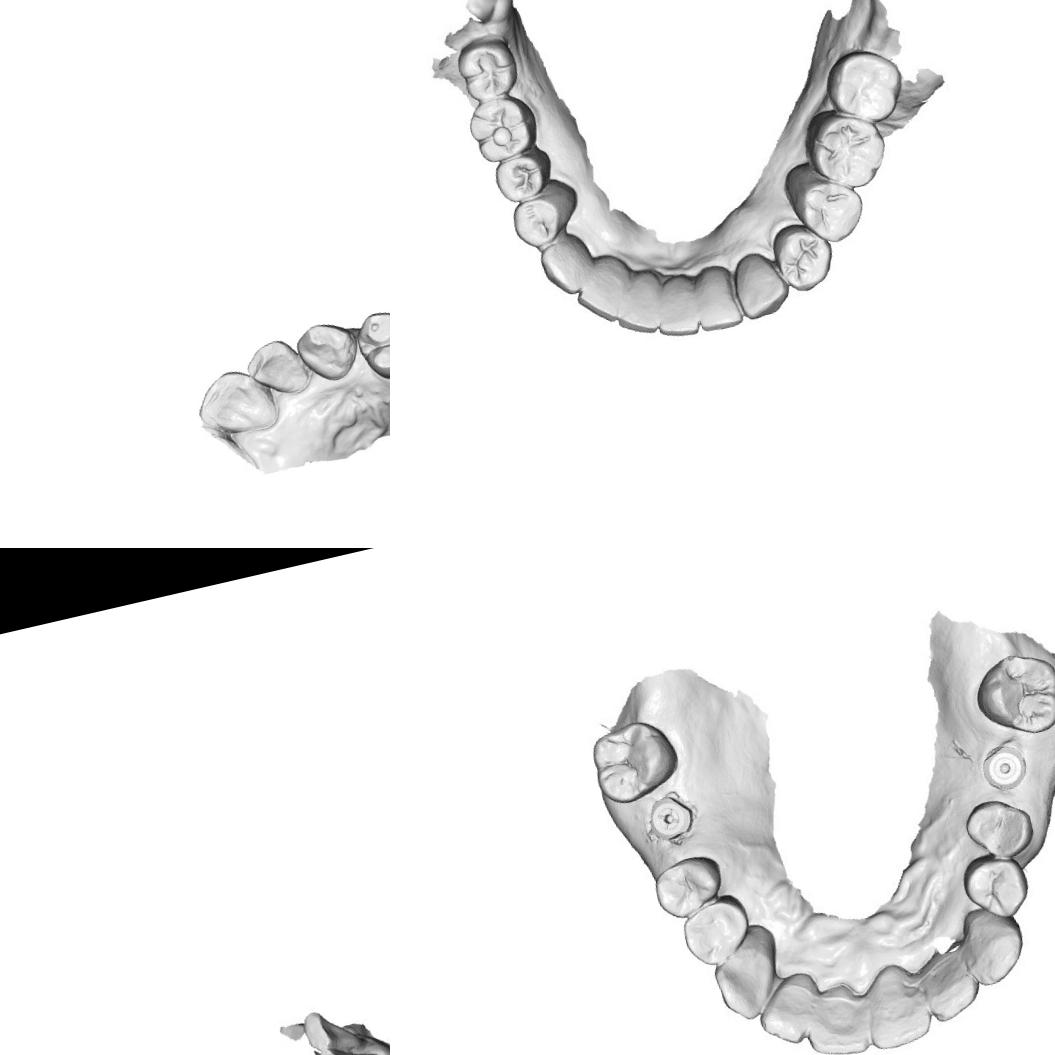canine: (701, 921, 795, 1028), (954, 900, 1030, 990), (727, 244, 792, 328), (533, 228, 600, 300), (294, 315, 362, 385)
implant: (967, 735, 1038, 802)
implant_plus: (644, 788, 698, 846)
incisor: (188, 359, 282, 447), (855, 953, 934, 1048), (792, 972, 876, 1055), (568, 248, 646, 331), (240, 330, 317, 406), (916, 942, 984, 1019), (755, 970, 822, 1044), (647, 268, 706, 346), (686, 260, 746, 335), (606, 268, 666, 342), (298, 1000, 364, 1055), (318, 1038, 388, 1055)
molar: (964, 638, 1055, 749), (584, 711, 686, 809), (798, 97, 891, 201), (820, 40, 909, 132), (448, 28, 526, 109), (462, 90, 543, 168)
premolar: (962, 792, 1038, 864), (798, 172, 870, 246), (676, 894, 754, 962), (770, 217, 838, 293), (961, 849, 1033, 919), (650, 860, 718, 918), (507, 190, 568, 252), (492, 148, 554, 207), (349, 304, 390, 384)
